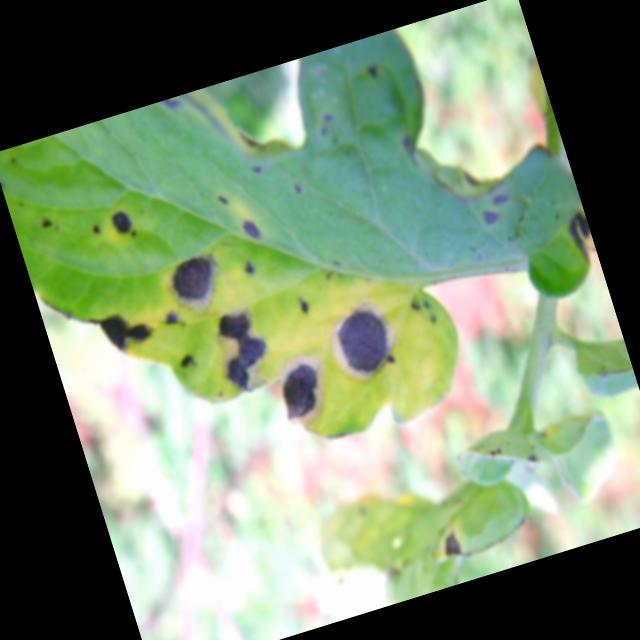Early_blight: (318, 295, 408, 393), (266, 349, 345, 436), (206, 304, 278, 398), (161, 248, 234, 319), (85, 300, 160, 366), (560, 208, 599, 271), (475, 191, 516, 232), (108, 206, 141, 248), (435, 526, 469, 565), (237, 212, 266, 248), (291, 291, 315, 319), (158, 95, 185, 118), (163, 309, 184, 334), (239, 255, 258, 282), (177, 351, 201, 371), (37, 212, 57, 236), (249, 161, 266, 180), (365, 64, 381, 81), (215, 194, 231, 210), (89, 222, 105, 238), (290, 184, 303, 199)
